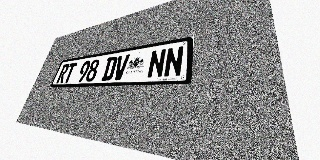8: (85, 59, 101, 82)
9: (76, 60, 92, 82)
D: (101, 56, 118, 81)
N: (163, 45, 184, 78), (147, 48, 167, 78)
R: (56, 63, 70, 83)
T: (63, 62, 78, 83)
V: (112, 54, 130, 80)
